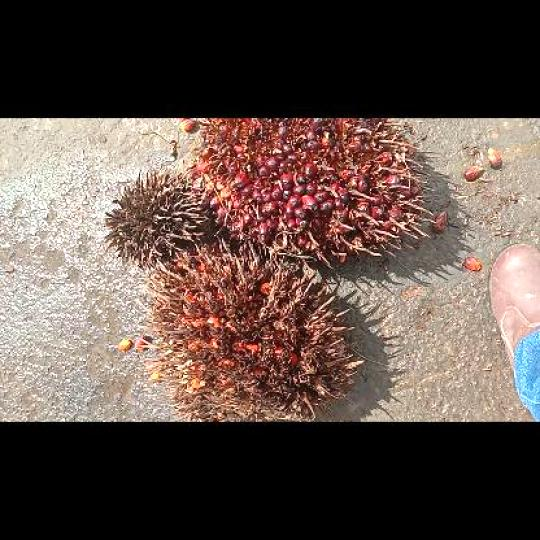masak: (188, 118, 435, 269)
terlalu masak: (136, 238, 362, 419)
